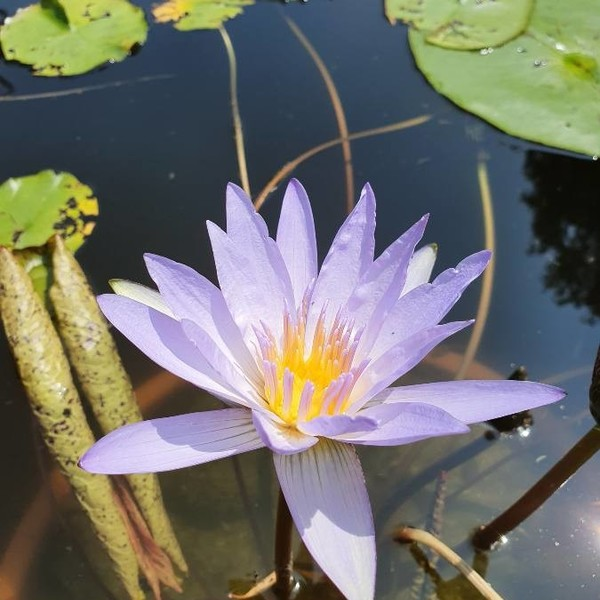obstacle: (88, 153, 564, 588)
